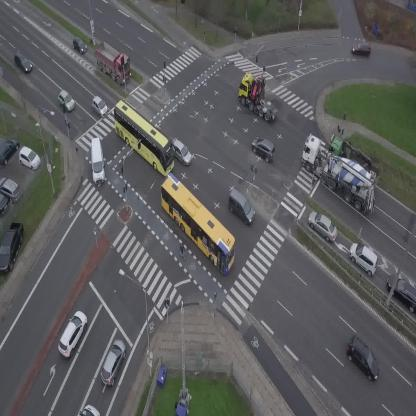bicycle: (176, 243, 187, 264)
bus: (146, 172, 249, 276), (101, 98, 186, 177)
car: (340, 335, 388, 383), (53, 308, 92, 359), (97, 337, 130, 388), (344, 239, 385, 278), (221, 188, 261, 226), (303, 207, 343, 244), (247, 131, 282, 166), (168, 137, 195, 168), (87, 94, 112, 119), (54, 89, 79, 113), (11, 50, 34, 75), (68, 34, 89, 57), (351, 41, 373, 57)
lorry: (288, 131, 392, 219), (230, 67, 292, 125), (326, 133, 385, 186), (86, 36, 140, 87), (90, 137, 105, 185), (78, 404, 100, 416)
